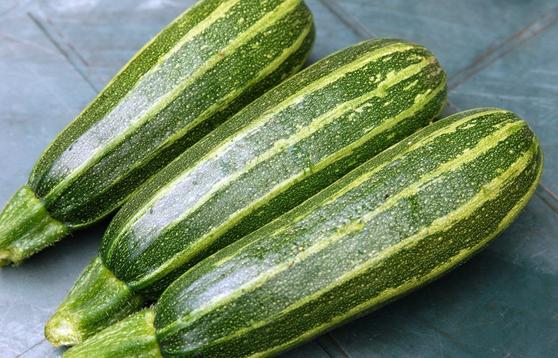zucchini: (156, 111, 547, 358)
